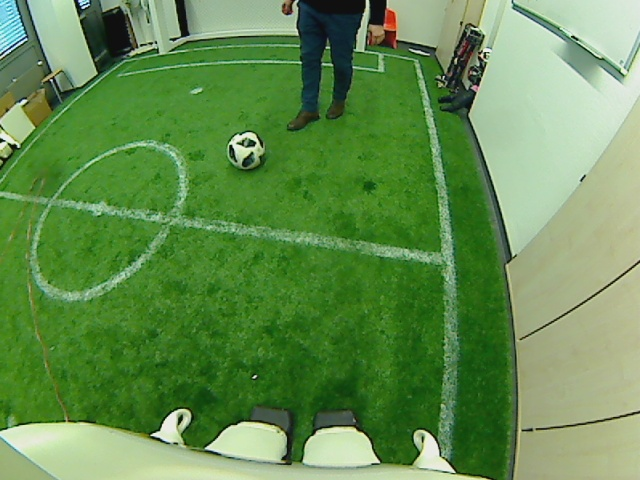ball: (224, 128, 268, 171)
